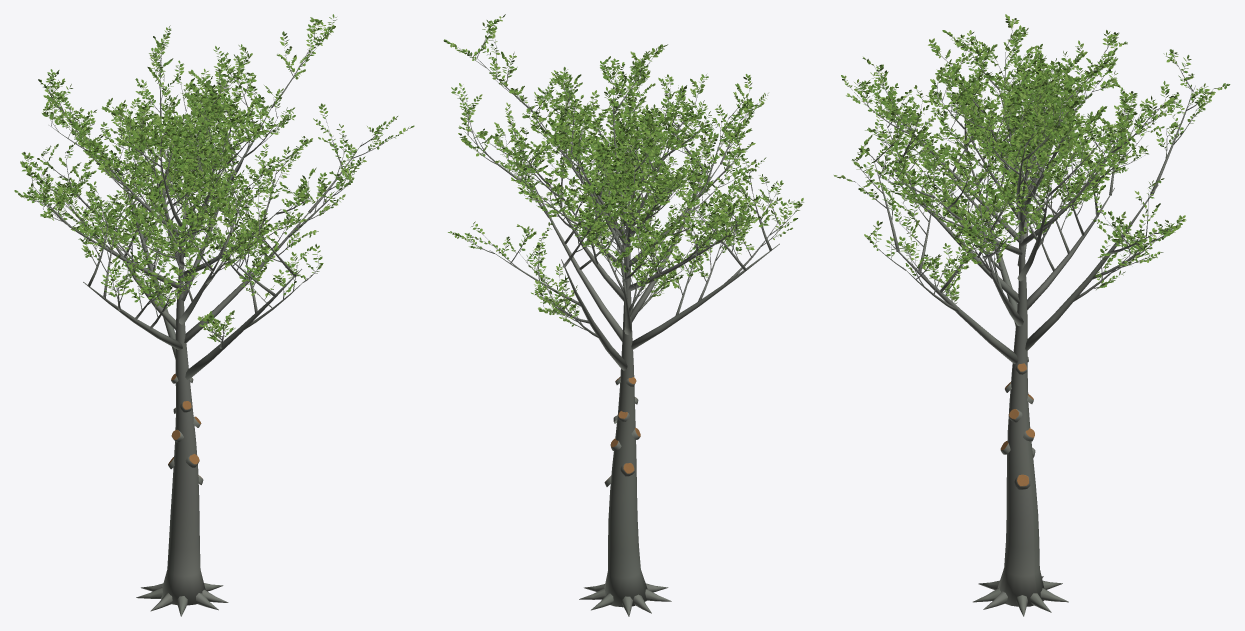
The model's file is Beech_Mature_01_HighPruned_Recent_LOD0.fbx.
3 views of the same model, side by side, from view 1: azimuth 30°, elevation 25°; view 2: azimuth 150°, elevation 25°; view 3: azimuth 270°, elevation 25° (orthographic). The views are drawn at different scales.
Visible parts, largest first — view 1: Beech_Mature_01_HighPruned_Recent_LOD0, Beech_Mature_01_HighPruned_Recent_LOD0_Scars; view 2: Beech_Mature_01_HighPruned_Recent_LOD0, Beech_Mature_01_HighPruned_Recent_LOD0_Scars; view 3: Beech_Mature_01_HighPruned_Recent_LOD0, Beech_Mature_01_HighPruned_Recent_LOD0_Scars.
Part boxes in pixels (left/top/right/bottom): Beech_Mature_01_HighPruned_Recent_LOD0: left=14, top=14, right=414, bottom=616; Beech_Mature_01_HighPruned_Recent_LOD0_Scars: left=168, top=373, right=203, bottom=484; Beech_Mature_01_HighPruned_Recent_LOD0: left=443, top=14, right=803, bottom=616; Beech_Mature_01_HighPruned_Recent_LOD0_Scars: left=604, top=377, right=640, bottom=486; Beech_Mature_01_HighPruned_Recent_LOD0: left=834, top=14, right=1230, bottom=616; Beech_Mature_01_HighPruned_Recent_LOD0_Scars: left=1000, top=357, right=1035, bottom=489.
Bounding box in the file's own units: 1689 × 2506 × 1535.
6 materials, 2 textured.
